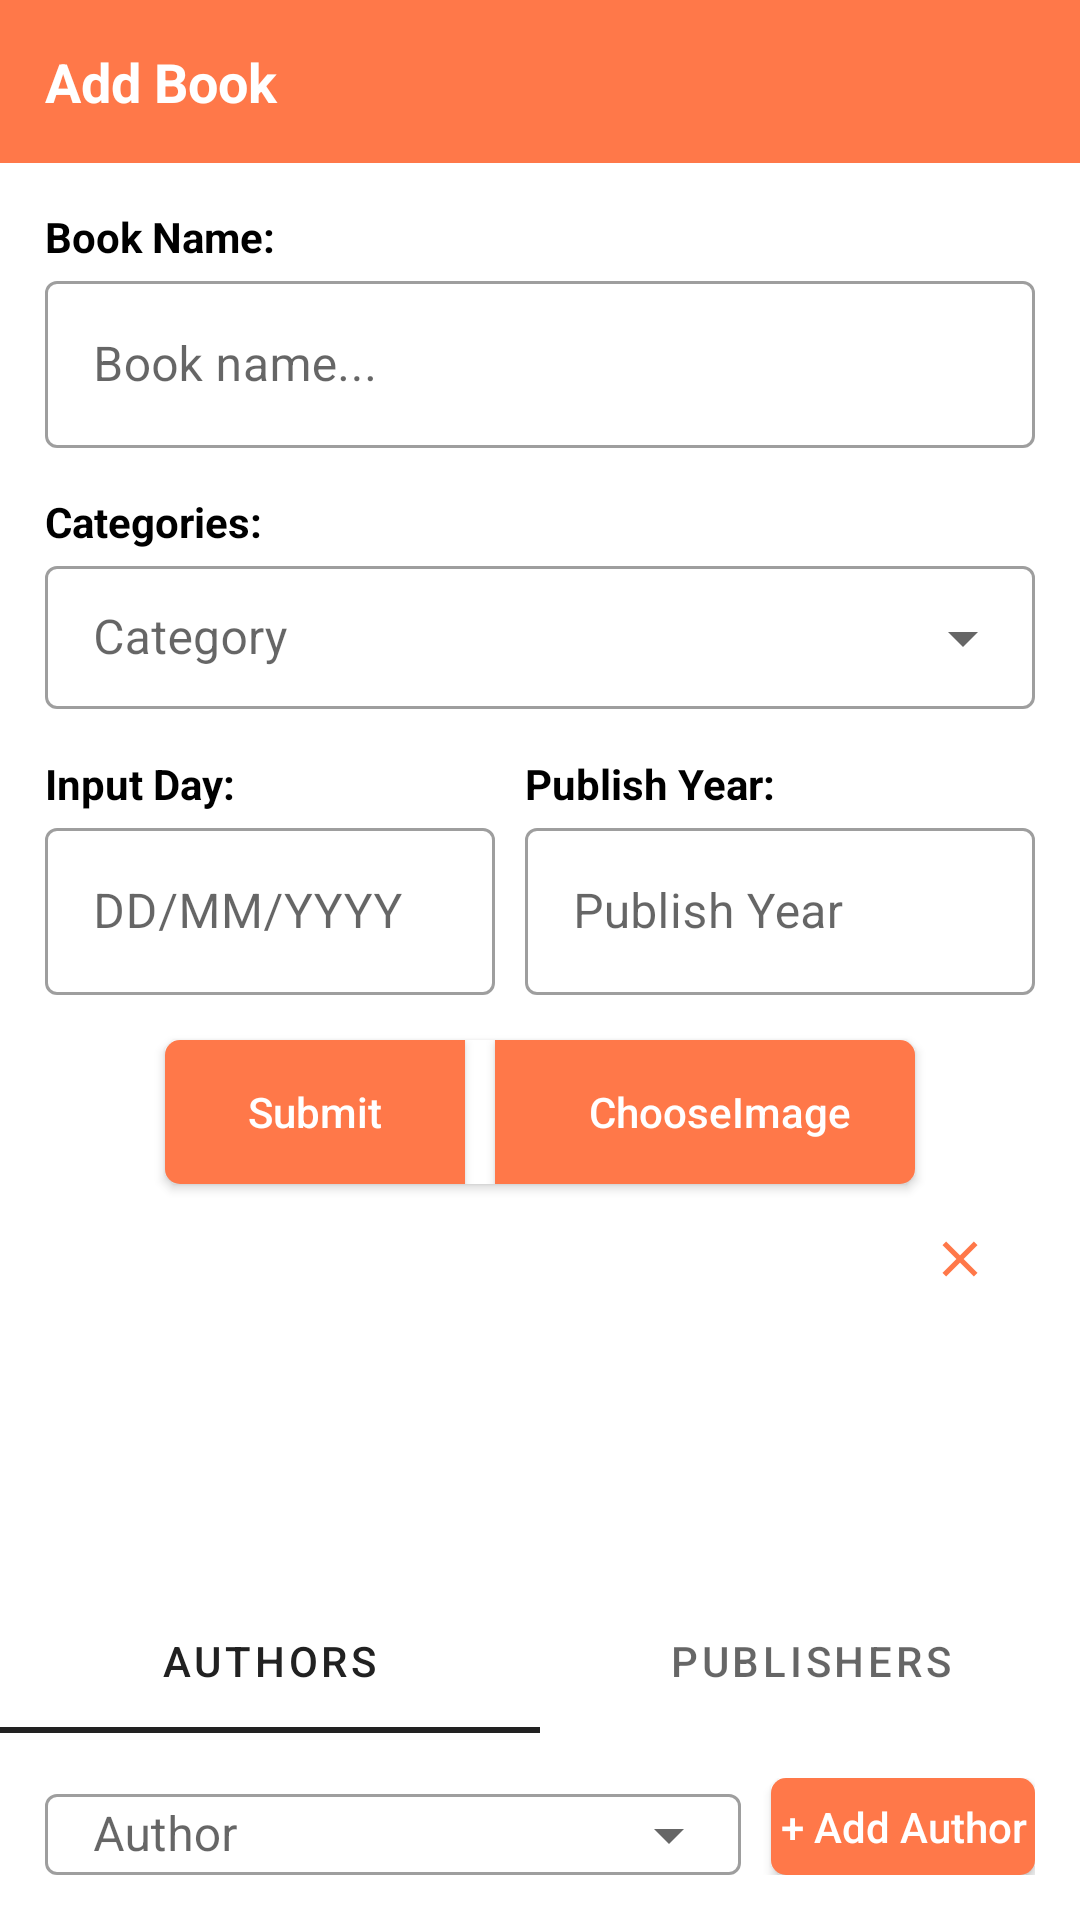

Where to tap for icons on this 1080w x 1920h app screen, as (x=x, y=y):
close: (x=960, y=1259)
